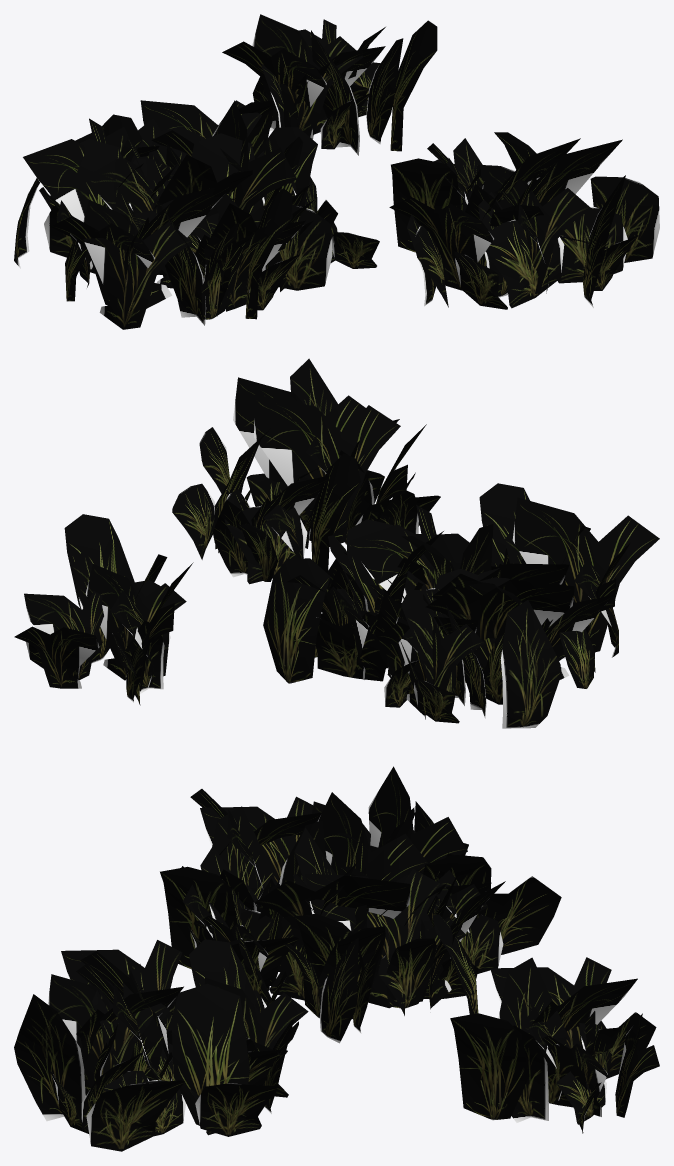
Rendered from grass.fbx.
3 renders of one model, top to bottom at view 1: azimuth 30°, elevation 25°; view 2: azimuth 150°, elevation 25°; view 3: azimuth 270°, elevation 25°, orthographic. The views are drawn at different scales.
Visible parts, largest first — view 1: grasspatch3, grasspatch1, grasspatch2; view 2: grasspatch3, grasspatch1, grasspatch2; view 3: grasspatch3, grasspatch1, grasspatch2.
Part boxes in pixels (x1,y1,x2,y2): grasspatch3: [14, 100, 379, 329]; grasspatch1: [389, 132, 659, 309]; grasspatch2: [222, 14, 437, 155]; grasspatch3: [263, 483, 659, 728]; grasspatch1: [172, 358, 440, 584]; grasspatch2: [14, 514, 193, 705]; grasspatch3: [160, 766, 561, 1043]; grasspatch1: [14, 939, 308, 1151]; grasspatch2: [450, 957, 659, 1133].
Size of the model in its own units: 507 by 129 by 524.
